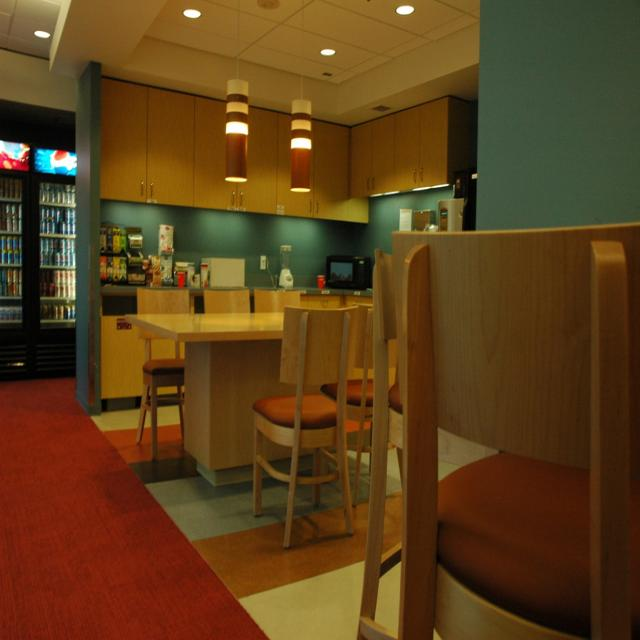chair: (368, 221, 640, 632), (251, 307, 362, 551), (135, 330, 186, 462)
desk: (110, 263, 325, 497)
